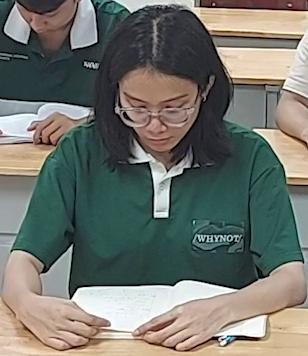Reading: (0, 0, 308, 342)
